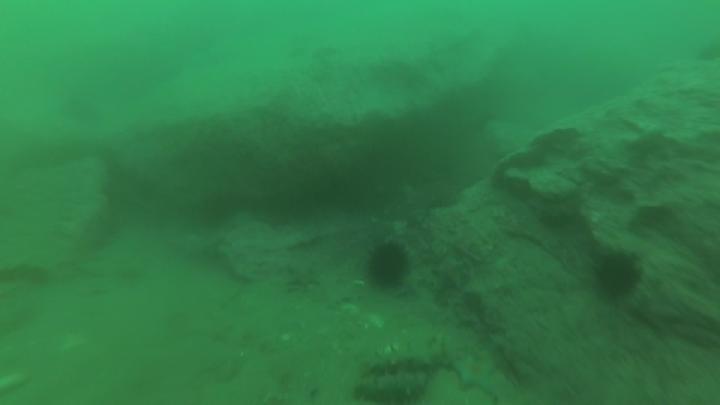echinus: (593, 245, 648, 305), (367, 239, 412, 292), (694, 39, 720, 65)
holothurian: (359, 334, 449, 379), (351, 370, 435, 405)
